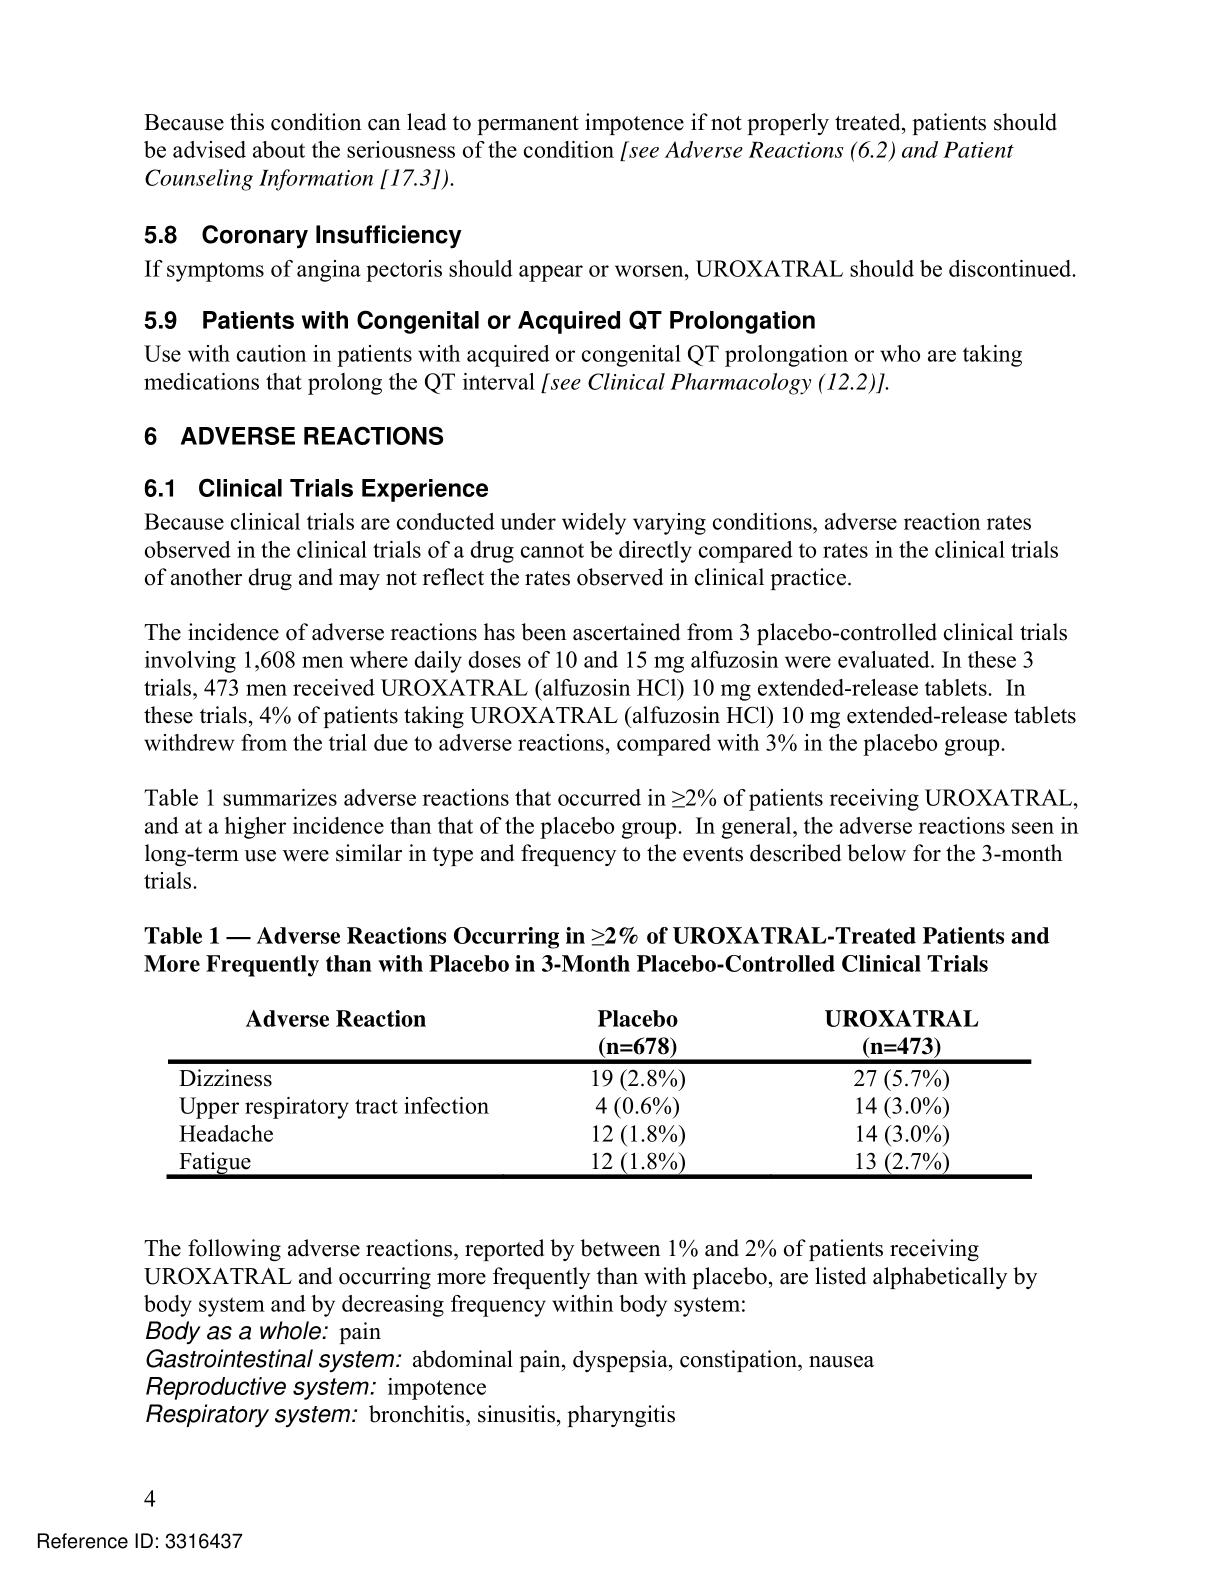partial_lined: (165, 1005, 1034, 1183)
